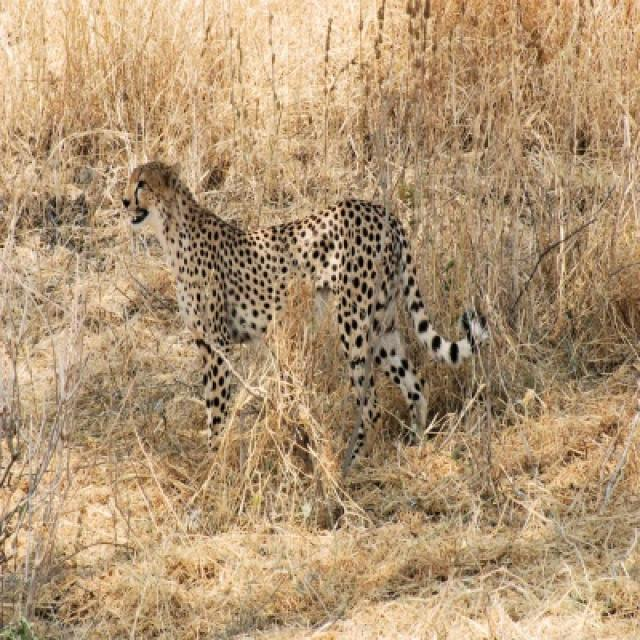Cheetah: (115, 161, 490, 459)
